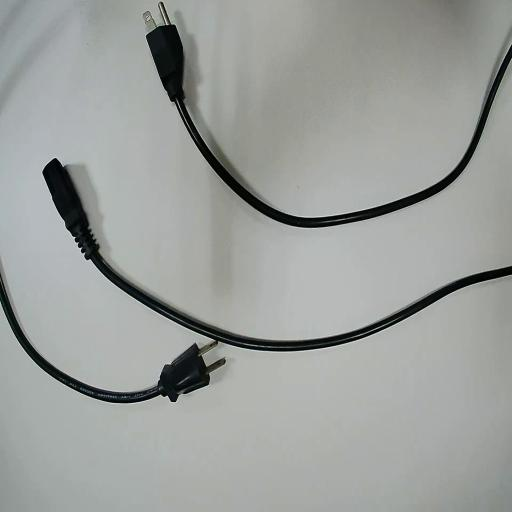wire: (44, 159, 511, 350), (147, 24, 511, 226)
